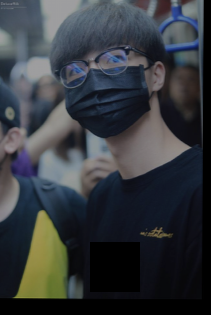with_mask: (62, 40, 155, 139)
